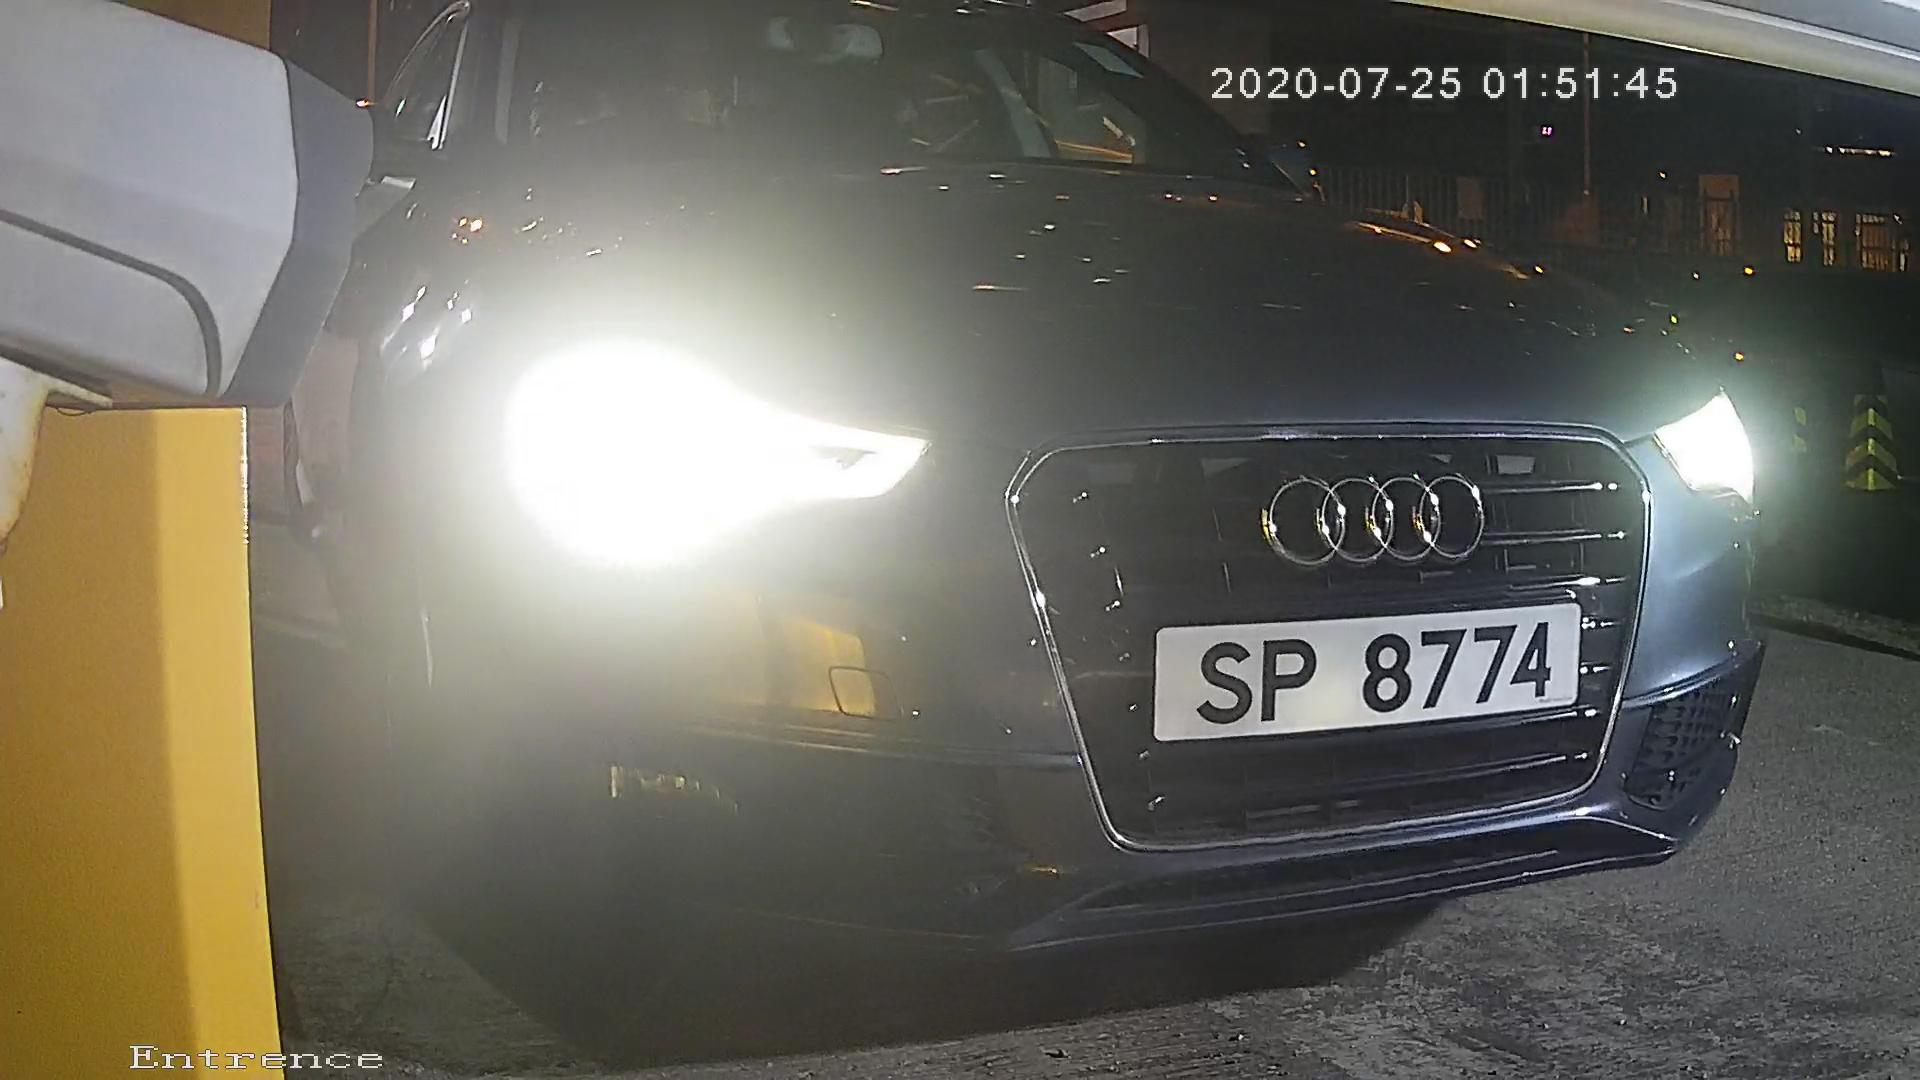Car: (69, 5, 1903, 965)
License Plate: (1132, 594, 1620, 757)
